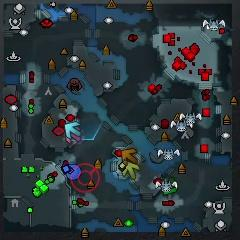p1: (65, 164, 81, 180)
x1: (66, 126, 81, 144)
x2: (123, 161, 139, 178)
x3: (65, 122, 80, 138)
x4: (163, 177, 177, 196)
x5: (122, 148, 137, 164)
